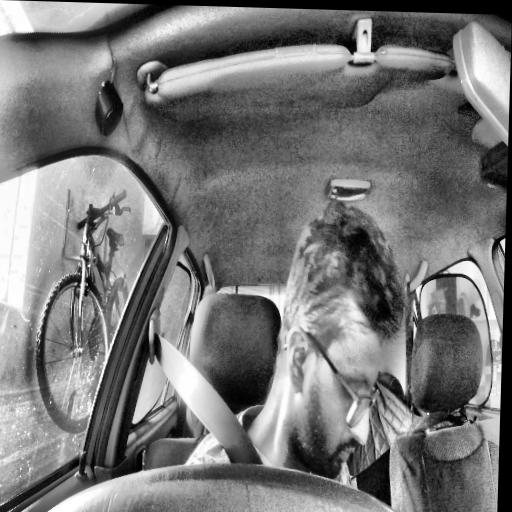drowsy: (270, 192, 413, 493)
